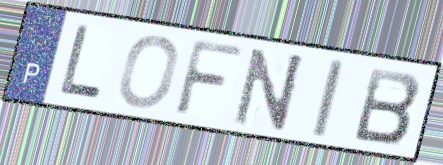B: (351, 64, 424, 146)
F: (171, 37, 247, 120)
I: (309, 57, 347, 139)
L: (56, 22, 105, 103)
N: (230, 45, 308, 132)
O: (115, 33, 182, 110)
